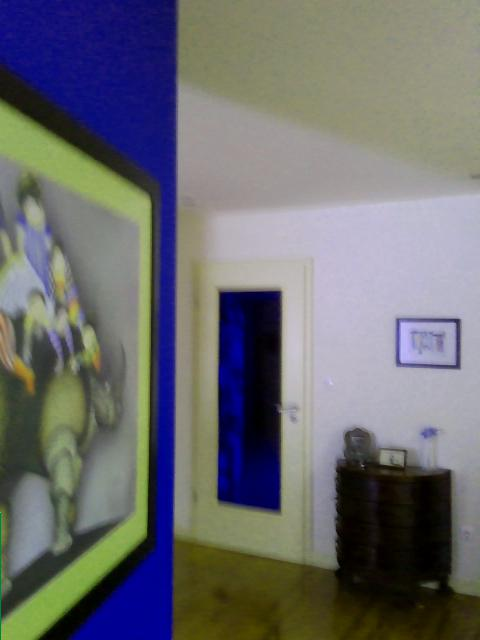closed_door: (188, 257, 314, 561)
